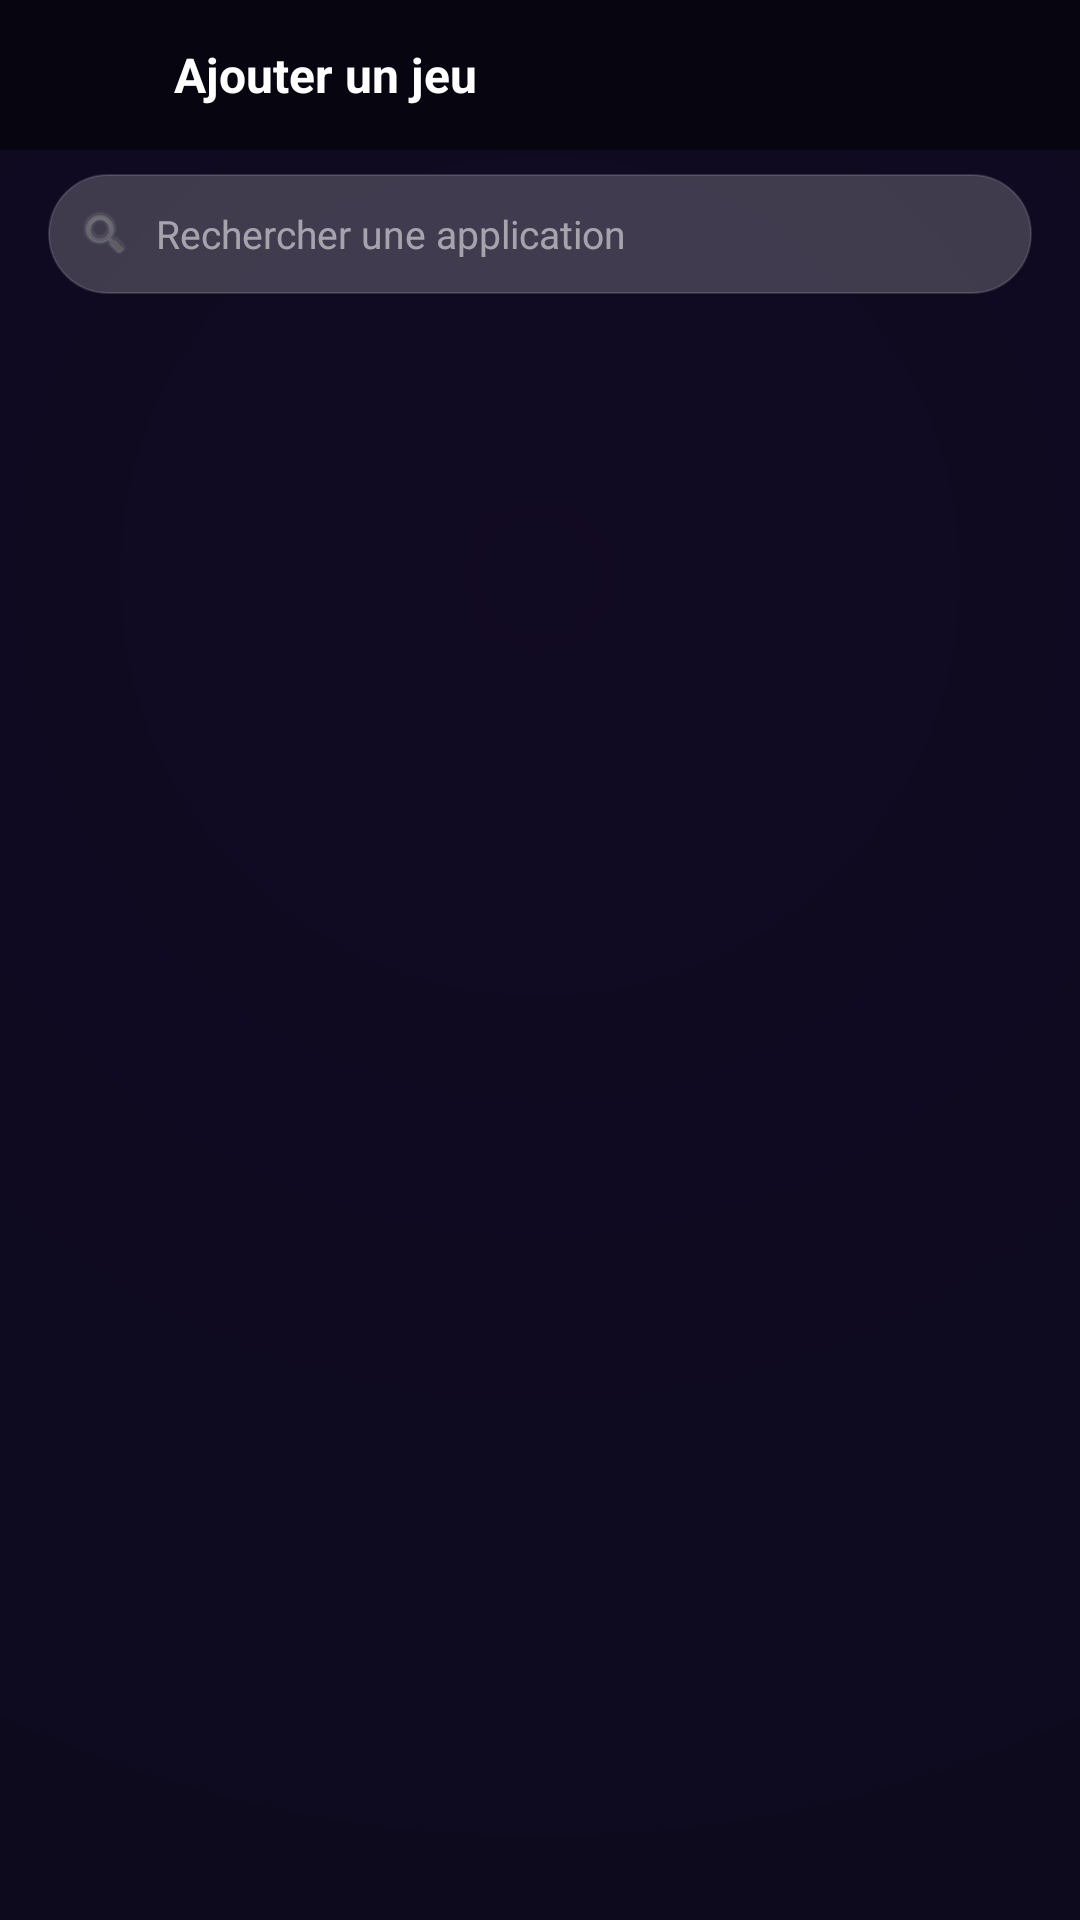

Where icons sit on this 1080w x 1920h app screen, as box(x1, y1, x2, y2):
search category: box(85, 215, 124, 253)
